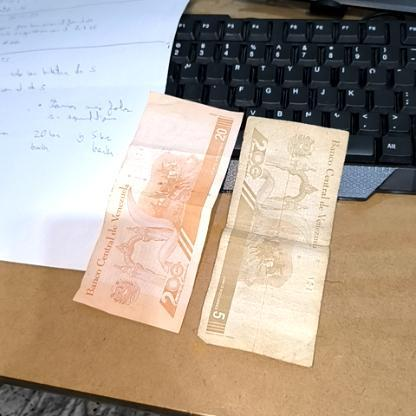five-back-vef: (197, 114, 349, 368)
twenty-back-vef: (72, 87, 244, 333)
